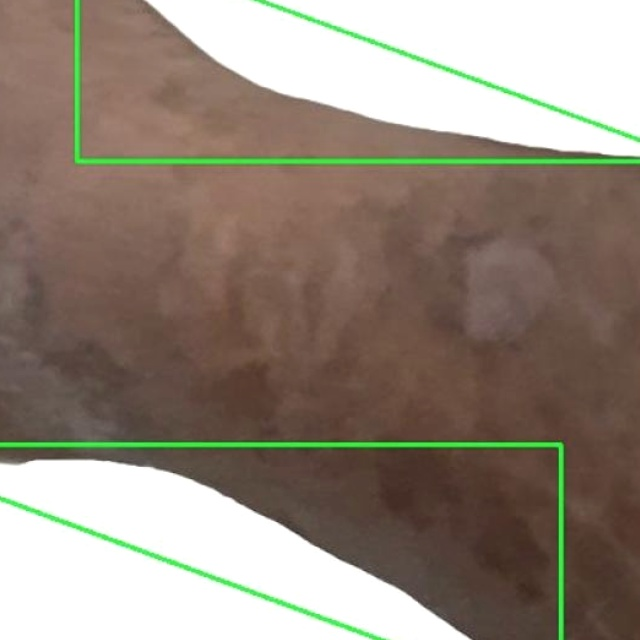Eczema: (0, 0, 639, 639), (0, 444, 560, 639), (76, 0, 639, 161)
